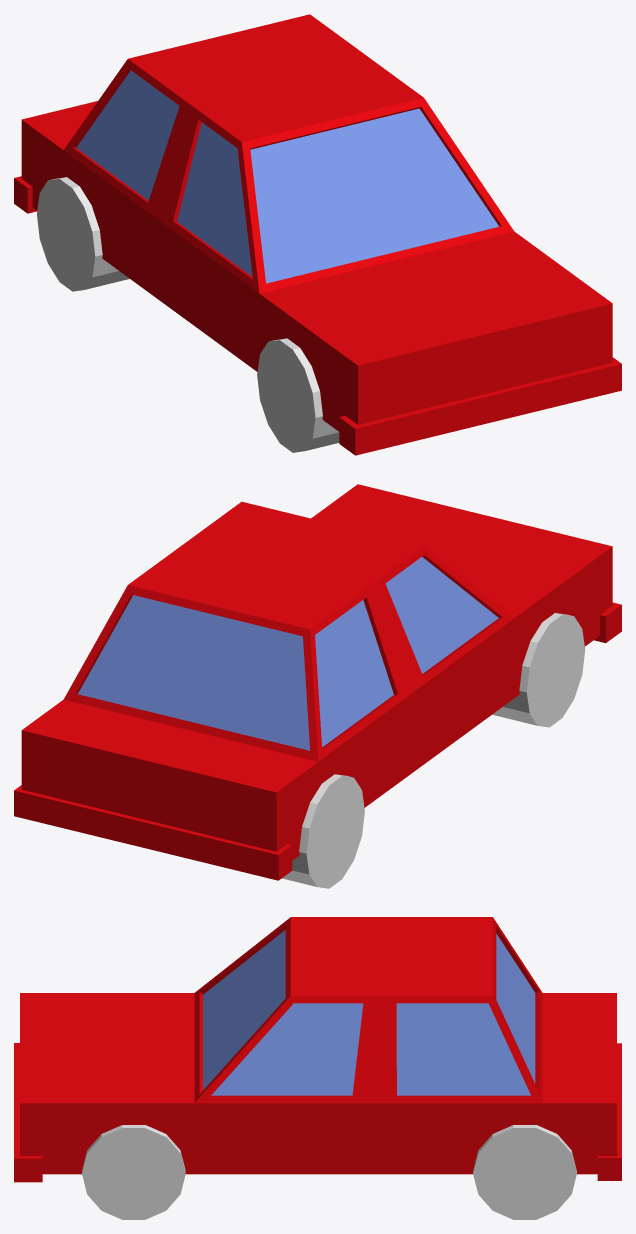
File: body.gltf
3 views of the same model, one above another, from view 1: azimuth 30°, elevation 25°; view 2: azimuth 150°, elevation 25°; view 3: azimuth 270°, elevation 25° (orthographic). The views are drawn at different scales.
Visible parts, largest first — view 1: Body, Wheelhouse_B, Wheelhouse_F; view 2: Body, Wheelhouse_F, Wheelhouse_B; view 3: Body, Wheelhouse_B, Wheelhouse_F.
Boxes of the visible parts, bbox=[...] form: Body: bbox=[14, 14, 621, 455]; Wheelhouse_B: bbox=[37, 177, 129, 291]; Wheelhouse_F: bbox=[257, 338, 339, 452]; Body: bbox=[14, 484, 621, 880]; Wheelhouse_F: bbox=[492, 613, 585, 727]; Wheelhouse_B: bbox=[282, 774, 364, 888]; Body: bbox=[14, 917, 621, 1182]; Wheelhouse_B: bbox=[473, 1125, 576, 1219]; Wheelhouse_F: bbox=[82, 1125, 185, 1219].
Bounding box in the file's own units: 2.12 × 1.73 × 4.65.
